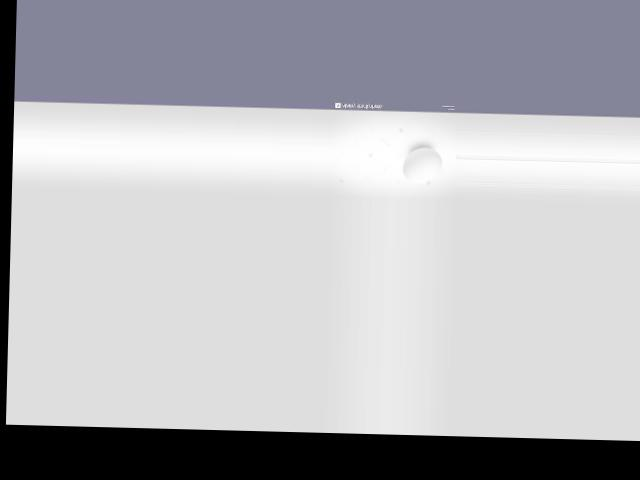egg: (403, 146, 443, 183)
